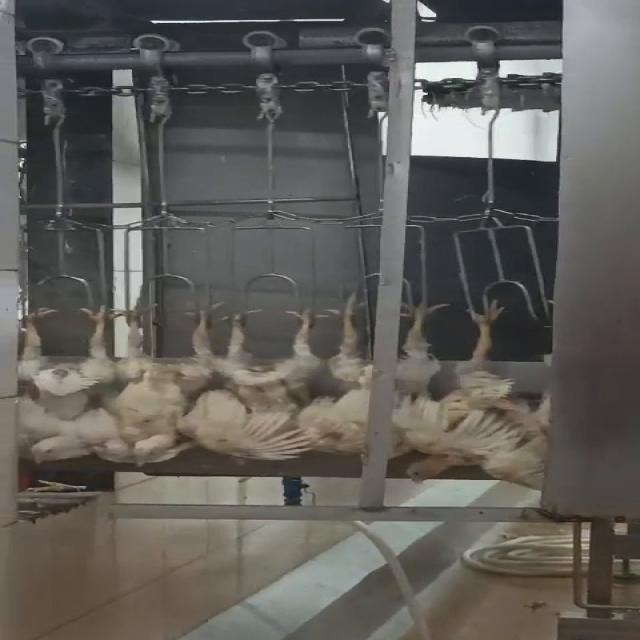chicken: (309, 296, 459, 486), (197, 302, 347, 468), (107, 293, 248, 467), (9, 298, 128, 468), (457, 290, 555, 490)
